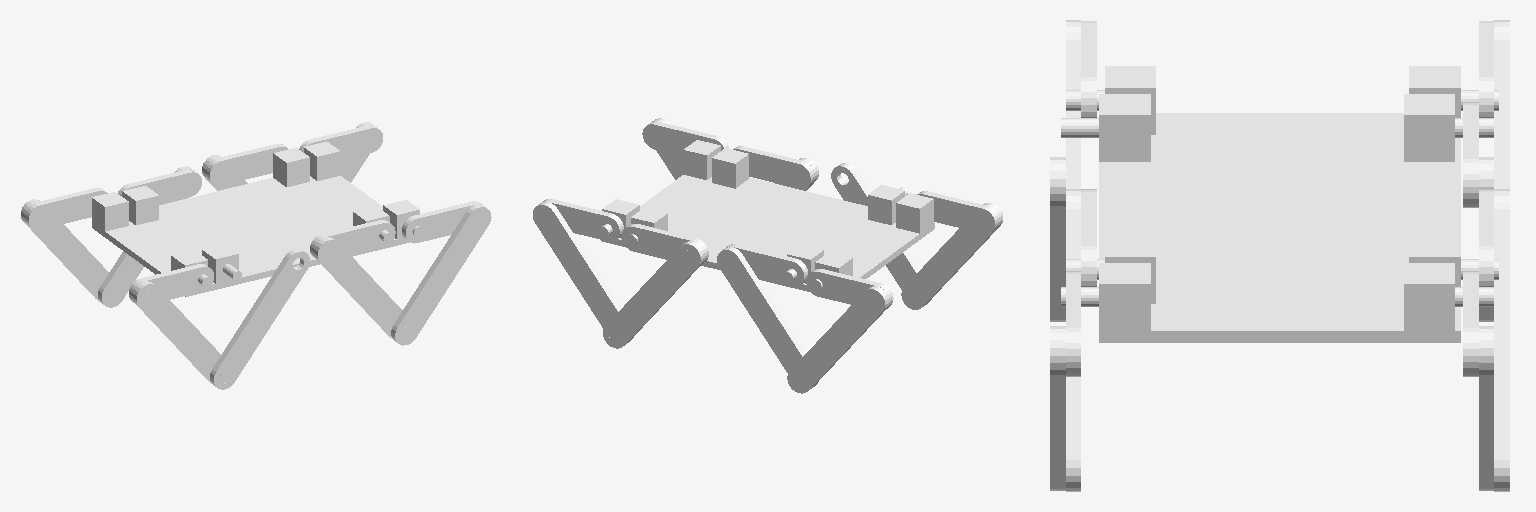
URDF robot description (minitaur):
<robot
  name="minitaur" xmlns:xacro="http://www.ros.org/wiki/xacro">
  <gazebo>
    <plugin name="gazebo_ros_control" filename="libgazebo_ros_control.so">
      <robotNamespace>/minitaur</robotNamespace>
      <robotSimType>gazebo_ros_control/DefaultRobotHWSim</robotSimType>
    </plugin>
  </gazebo>
  <link
    name="base_link">
    <inertial>
      <origin
        xyz="0.083033 -0.15433 0.00624"
        rpy="0 0 0" />
      <mass
        value="0.71915" />
      <inertia
        ixx="0.0023612"
        ixy="0"
        ixz="6.8894E-06"
        iyy="0.0062972"
        iyz="0"
        izz="0.0040109" />
    </inertial>
    <visual>
      <origin
        xyz="0 0 0"
        rpy="0 0 0" />
      <geometry>
        <mesh
          filename="package://minitaur/meshes/base_link.STL" />
      </geometry>
      <material
        name="">
        <color
          rgba="1 1 1 0.3" />
      </material>
    </visual>
    <collision>
      <origin
        xyz="0 0 0"
        rpy="0 0 0" />
      <geometry>
        <mesh
          filename="package://minitaur/meshes/base_link.STL" />
      </geometry>
    </collision>
  </link>
  <link
    name="leg1a1">
    <inertial>
      <origin
        xyz="0.027399 0 -0.008649"
        rpy="0 0 0" />
      <mass
        value="0.0096655" />
      <inertia
        ixx="3.47E-07"
        ixy="0"
        ixz="7.67E-08"
        iyy="3.57E-06"
        iyz="0"
        izz="3.82E-06" />
    </inertial>
    <visual>
      <origin
        xyz="0 0 0"
        rpy="0 0 0" />
      <geometry>
        <mesh
          filename="package://minitaur/meshes/leg1a1.STL" />
      </geometry>
      <material
        name="">
        <color
          rgba="1 1 1 0.3" />
      </material>
    </visual>
    <collision>
      <origin
        xyz="0 0 0"
        rpy="0 0 0" />
      <geometry>
        <mesh
          filename="package://minitaur/meshes/leg1a1.STL" />
      </geometry>
    </collision>
  </link>
  <joint
    name="leg1j1"
    type="continuous">
    <origin
      xyz="0.17303 -0.071332 0.10916"
      rpy="-1.5708 0 0" />
    <parent
      link="base_link" />
    <child
      link="leg1a1" />
    <axis
      xyz="0 0 -1" />
  </joint>
  <link
    name="leg1a2">
    <inertial>
      <origin
        xyz="-0.053394 -1.3878E-17 -0.0027964"
        rpy="0 0 0" />
      <mass
        value="0.016662" />
      <inertia
        ixx="6.06E-07"
        ixy="0"
        ixz="-1.58E-07"
        iyy="1.85E-05"
        iyz="0"
        izz="1.9E-05" />
    </inertial>
    <visual>
      <origin
        xyz="0 0 0"
        rpy="0 0 0" />
      <geometry>
        <mesh
          filename="package://minitaur/meshes/leg1a2.STL" />
      </geometry>
      <material
        name="">
        <color
          rgba="1 1 1 0.3" />
      </material>
    </visual>
    <collision>
      <origin
        xyz="0 0 0"
        rpy="0 0 0" />
      <geometry>
        <mesh
          filename="package://minitaur/meshes/leg1a2.STL" />
      </geometry>
    </collision>
  </link>
  <joint
    name="leg1j2"
    type="continuous">
    <origin
      xyz="0.05 0 0"
      rpy="5.5511E-15 5.9165E-30 -0.89566" />
    <parent
      link="leg1a1" />
    <child
      link="leg1a2" />
    <axis
      xyz="0 0 -1" />
  </joint>
  <link
    name="leg1a3">
    <inertial>
      <origin
        xyz="0.027399 -2.7756E-17 -0.008649"
        rpy="0 0 0" />
      <mass
        value="0.0096655" />
      <inertia
        ixx="3.47E-07"
        ixy="0"
        ixz="7.67E-08"
        iyy="3.57E-06"
        iyz="0"
        izz="3.82E-06" />
    </inertial>
    <visual>
      <origin
        xyz="0 0 0"
        rpy="0 0 0" />
      <geometry>
        <mesh
          filename="package://minitaur/meshes/leg1a3.STL" />
      </geometry>
      <material
        name="">
        <color
          rgba="1 1 1 0.3" />
      </material>
    </visual>
    <collision>
      <origin
        xyz="0 0 0"
        rpy="0 0 0" />
      <geometry>
        <mesh
          filename="package://minitaur/meshes/leg1a3.STL" />
      </geometry>
    </collision>
  </link>
  <joint
    name="leg1j3"
    type="continuous">
    <origin
      xyz="0.14803 -0.065332 0.10916"
      rpy="1.5708 0 3.1416" />
    <parent
      link="base_link" />
    <child
      link="leg1a3" />
    <axis
      xyz="0 0 -1" />
  </joint>
  <link
    name="leg1a4">
    <inertial>
      <origin
        xyz="0.05 2.7756E-17 0.003"
        rpy="0 0 0" />
      <mass
        value="0.015531" />
      <inertia
        ixx="5.76E-07"
        ixy="0"
        ixz="0"
        iyy="1.59E-05"
        iyz="0"
        izz="1.64E-05" />
    </inertial>
    <visual>
      <origin
        xyz="0 0 0"
        rpy="0 0 0" />
      <geometry>
        <mesh
          filename="package://minitaur/meshes/leg1a4.STL" />
      </geometry>
      <material
        name="">
        <color
          rgba="1 1 1 0.3" />
      </material>
    </visual>
    <collision>
      <origin
        xyz="0 0 0"
        rpy="0 0 0" />
      <geometry>
        <mesh
          filename="package://minitaur/meshes/leg1a4.STL" />
      </geometry>
    </collision>
  </link>
  <joint
    name="leg1j4"
    type="continuous">
    <origin
      xyz="0.05 0 0"
      rpy="3.1416 0 -2.2459" />
    <parent
      link="leg1a3" />
    <child
      link="leg1a4" />
    <axis
      xyz="0 0 1" />
  </joint>
  <link
    name="leg2a1">
    <inertial>
      <origin
        xyz="0.027399 -1.3878E-17 -0.008649"
        rpy="0 0 0" />
      <mass
        value="0.0096655" />
      <inertia
        ixx="3.47E-07"
        ixy="0"
        ixz="7.67E-08"
        iyy="3.57E-06"
        iyz="0"
        izz="3.82E-06" />
    </inertial>
    <visual>
      <origin
        xyz="0 0 0"
        rpy="0 0 0" />
      <geometry>
        <mesh
          filename="package://minitaur/meshes/leg2a1.STL" />
      </geometry>
      <material
        name="">
        <color
          rgba="1 1 1 0.3" />
      </material>
    </visual>
    <collision>
      <origin
        xyz="0 0 0"
        rpy="0 0 0" />
      <geometry>
        <mesh
          filename="package://minitaur/meshes/leg2a1.STL" />
      </geometry>
    </collision>
  </link>
  <joint
    name="leg2j1"
    type="continuous">
    <origin
      xyz="0.018033 -0.071332 0.10916"
      rpy="-1.5708 0 0" />
    <parent
      link="base_link" />
    <child
      link="leg2a1" />
    <axis
      xyz="0 0 -1" />
  </joint>
  <link
    name="leg2a2">
    <inertial>
      <origin
        xyz="-0.053394 -4.6838E-17 -0.0027964"
        rpy="0 0 0" />
      <mass
        value="0.016662" />
      <inertia
        ixx="6.06E-07"
        ixy="0"
        ixz="-1.58E-07"
        iyy="1.85E-05"
        iyz="0"
        izz="1.9E-05" />
    </inertial>
    <visual>
      <origin
        xyz="0 0 0"
        rpy="0 0 0" />
      <geometry>
        <mesh
          filename="package://minitaur/meshes/leg2a2.STL" />
      </geometry>
      <material
        name="">
        <color
          rgba="1 1 1 0.3" />
      </material>
    </visual>
    <collision>
      <origin
        xyz="0 0 0"
        rpy="0 0 0" />
      <geometry>
        <mesh
          filename="package://minitaur/meshes/leg2a2.STL" />
      </geometry>
    </collision>
  </link>
  <joint
    name="leg2j2"
    type="continuous">
    <origin
      xyz="0.05 0 0"
      rpy="5.5511E-15 0 -0.89566" />
    <parent
      link="leg2a1" />
    <child
      link="leg2a2" />
    <axis
      xyz="0 0 -1" />
  </joint>
  <link
    name="leg2a3">
    <inertial>
      <origin
        xyz="0.027399 2.7756E-17 -0.008649"
        rpy="0 0 0" />
      <mass
        value="0.0096655" />
      <inertia
        ixx="3.47E-07"
        ixy="0"
        ixz="7.67E-08"
        iyy="3.57E-06"
        iyz="0"
        izz="3.82E-06" />
    </inertial>
    <visual>
      <origin
        xyz="0 0 0"
        rpy="0 0 0" />
      <geometry>
        <mesh
          filename="package://minitaur/meshes/leg2a3.STL" />
      </geometry>
      <material
        name="">
        <color
          rgba="1 1 1 0.3" />
      </material>
    </visual>
    <collision>
      <origin
        xyz="0 0 0"
        rpy="0 0 0" />
      <geometry>
        <mesh
          filename="package://minitaur/meshes/leg2a3.STL" />
      </geometry>
    </collision>
  </link>
  <joint
    name="leg2j3"
    type="continuous">
    <origin
      xyz="-0.0069671 -0.065332 0.10916"
      rpy="1.5708 6.0715E-16 -3.1416" />
    <parent
      link="base_link" />
    <child
      link="leg2a3" />
    <axis
      xyz="0 0 -1" />
  </joint>
  <link
    name="leg2a4">
    <inertial>
      <origin
        xyz="-0.05 -6.9389E-18 0.003"
        rpy="0 0 0" />
      <mass
        value="0.015531" />
      <inertia
        ixx="5.76E-07"
        ixy="0"
        ixz="0"
        iyy="1.59E-05"
        iyz="0"
        izz="1.64E-05" />
    </inertial>
    <visual>
      <origin
        xyz="0 0 0"
        rpy="0 0 0" />
      <geometry>
        <mesh
          filename="package://minitaur/meshes/leg2a4.STL" />
      </geometry>
      <material
        name="">
        <color
          rgba="1 1 1 0.3" />
      </material>
    </visual>
    <collision>
      <origin
        xyz="0 0 0"
        rpy="0 0 0" />
      <geometry>
        <mesh
          filename="package://minitaur/meshes/leg2a4.STL" />
      </geometry>
    </collision>
  </link>
  <joint
    name="leg2j4"
    type="continuous">
    <origin
      xyz="0.05 0 0"
      rpy="3.1416 0 0.89566" />
    <parent
      link="leg2a3" />
    <child
      link="leg2a4" />
    <axis
      xyz="0 0 1" />
  </joint>
  <link
    name="leg3a1">
    <inertial>
      <origin
        xyz="0.027399 0 0.003351"
        rpy="0 0 0" />
      <mass
        value="0.0096655" />
      <inertia
        ixx="3.47E-07"
        ixy="0"
        ixz="7.67E-08"
        iyy="3.57E-06"
        iyz="0"
        izz="3.82E-06" />
    </inertial>
    <visual>
      <origin
        xyz="0 0 0"
        rpy="0 0 0" />
      <geometry>
        <mesh
          filename="package://minitaur/meshes/leg3a1.STL" />
      </geometry>
      <material
        name="">
        <color
          rgba="1 1 1 0.3" />
      </material>
    </visual>
    <collision>
      <origin
        xyz="0 0 0"
        rpy="0 0 0" />
      <geometry>
        <mesh
          filename="package://minitaur/meshes/leg3a1.STL" />
      </geometry>
    </collision>
  </link>
  <joint
    name="leg3j1"
    type="continuous">
    <origin
      xyz="0.14803 -0.22533 0.10916"
      rpy="-1.5708 0 3.1416" />
    <parent
      link="base_link" />
    <child
      link="leg3a1" />
    <axis
      xyz="0 0 1" />
  </joint>
  <link
    name="leg3a2">
    <inertial>
      <origin
        xyz="-0.053394 2.7756E-17 0.0032036"
        rpy="0 0 0" />
      <mass
        value="0.016662" />
      <inertia
        ixx="6.06E-07"
        ixy="0"
        ixz="-1.58E-07"
        iyy="1.85E-05"
        iyz="0"
        izz="1.9E-05" />
    </inertial>
    <visual>
      <origin
        xyz="0 0 0"
        rpy="0 0 0" />
      <geometry>
        <mesh
          filename="package://minitaur/meshes/leg3a2.STL" />
      </geometry>
      <material
        name="">
        <color
          rgba="1 1 1 0.3" />
      </material>
    </visual>
    <collision>
      <origin
        xyz="0 0 0"
        rpy="0 0 0" />
      <geometry>
        <mesh
          filename="package://minitaur/meshes/leg3a2.STL" />
      </geometry>
    </collision>
  </link>
  <joint
    name="leg3j2"
    type="continuous">
    <origin
      xyz="0.05 0 0.006"
      rpy="0 0 -0.89566" />
    <parent
      link="leg3a1" />
    <child
      link="leg3a2" />
    <axis
      xyz="0 0 1" />
  </joint>
  <link
    name="leg3a3">
    <inertial>
      <origin
        xyz="0.027399 2.7756E-17 0.003351"
        rpy="0 0 0" />
      <mass
        value="0.0096655" />
      <inertia
        ixx="3.47E-07"
        ixy="0"
        ixz="7.67E-08"
        iyy="3.57E-06"
        iyz="0"
        izz="3.82E-06" />
    </inertial>
    <visual>
      <origin
        xyz="0 0 0"
        rpy="0 0 0" />
      <geometry>
        <mesh
          filename="package://minitaur/meshes/leg3a3.STL" />
      </geometry>
      <material
        name="">
        <color
          rgba="1 1 1 0.3" />
      </material>
    </visual>
    <collision>
      <origin
        xyz="0 0 0"
        rpy="0 0 0" />
      <geometry>
        <mesh
          filename="package://minitaur/meshes/leg3a3.STL" />
      </geometry>
    </collision>
  </link>
  <joint
    name="leg3j3"
    type="continuous">
    <origin
      xyz="0.17303 -0.23133 0.10916"
      rpy="1.5708 0 0" />
    <parent
      link="base_link" />
    <child
      link="leg3a3" />
    <axis
      xyz="0 0 1" />
  </joint>
  <link
    name="leg3a4">
    <inertial>
      <origin
        xyz="0.05 2.7756E-17 0.003"
        rpy="0 0 0" />
      <mass
        value="0.015531" />
      <inertia
        ixx="5.76E-07"
        ixy="0"
        ixz="0"
        iyy="1.59E-05"
        iyz="0"
        izz="1.64E-05" />
    </inertial>
    <visual>
      <origin
        xyz="0 0 0"
        rpy="0 0 0" />
      <geometry>
        <mesh
          filename="package://minitaur/meshes/leg3a4.STL" />
      </geometry>
      <material
        name="">
        <color
          rgba="1 1 1 0.3" />
      </material>
    </visual>
    <collision>
      <origin
        xyz="0 0 0"
        rpy="0 0 0" />
      <geometry>
        <mesh
          filename="package://minitaur/meshes/leg3a4.STL" />
      </geometry>
    </collision>
  </link>
  <joint
    name="leg3j4"
    type="continuous">
    <origin
      xyz="0.05 0 0.006"
      rpy="0 0 -2.2459" />
    <parent
      link="leg3a3" />
    <child
      link="leg3a4" />
    <axis
      xyz="0 0 1" />
  </joint>
  <link
    name="leg4a1">
    <inertial>
      <origin
        xyz="0.027399 0 0.003351"
        rpy="0 0 0" />
      <mass
        value="0.0096655" />
      <inertia
        ixx="3.47E-07"
        ixy="0"
        ixz="7.67E-08"
        iyy="3.57E-06"
        iyz="0"
        izz="3.82E-06" />
    </inertial>
    <visual>
      <origin
        xyz="0 0 0"
        rpy="0 0 0" />
      <geometry>
        <mesh
          filename="package://minitaur/meshes/leg4a1.STL" />
      </geometry>
      <material
        name="">
        <color
          rgba="1 1 1 0.3" />
      </material>
    </visual>
    <collision>
      <origin
        xyz="0 0 0"
        rpy="0 0 0" />
      <geometry>
        <mesh
          filename="package://minitaur/meshes/leg4a1.STL" />
      </geometry>
    </collision>
  </link>
  <joint
    name="leg4j1"
    type="continuous">
    <origin
      xyz="-0.0069671 -0.22533 0.10916"
      rpy="-1.5708 -8.6736E-17 3.1416" />
    <parent
      link="base_link" />
    <child
      link="leg4a1" />
    <axis
      xyz="0 0 1" />
  </joint>
  <link
    name="leg4a2">
    <inertial>
      <origin
        xyz="-0.053394 -3.1225E-17 0.0032036"
        rpy="0 0 0" />
      <mass
        value="0.016662" />
      <inertia
        ixx="6.06E-07"
        ixy="0"
        ixz="-1.58E-07"
        iyy="1.85E-05"
        iyz="0"
        izz="1.9E-05" />
    </inertial>
    <visual>
      <origin
        xyz="0 0 0"
        rpy="0 0 0" />
      <geometry>
        <mesh
          filename="package://minitaur/meshes/leg4a2.STL" />
      </geometry>
      <material
        name="">
        <color
          rgba="1 1 1 0.3" />
      </material>
    </visual>
    <collision>
      <origin
        xyz="0 0 0"
        rpy="0 0 0" />
      <geometry>
        <mesh
          filename="package://minitaur/meshes/leg4a2.STL" />
      </geometry>
    </collision>
  </link>
  <joint
    name="leg4j2"
    type="continuous">
    <origin
      xyz="0.05 0 0.006"
      rpy="0 0 -0.89566" />
    <parent
      link="leg4a1" />
    <child
      link="leg4a2" />
    <axis
      xyz="0 0 1" />
  </joint>
  <link
    name="leg4a3">
    <inertial>
      <origin
        xyz="0.027399 1.3878E-17 0.003351"
        rpy="0 0 0" />
      <mass
        value="0.0096655" />
      <inertia
        ixx="3.47E-07"
        ixy="0"
        ixz="7.67E-08"
        iyy="3.57E-06"
        iyz="0"
        izz="3.82E-06" />
    </inertial>
    <visual>
      <origin
        xyz="0 0 0"
        rpy="0 0 0" />
      <geometry>
        <mesh
          filename="package://minitaur/meshes/leg4a3.STL" />
      </geometry>
      <material
        name="">
        <color
          rgba="1 1 1 0.3" />
      </material>
    </visual>
    <collision>
      <origin
        xyz="0 0 0"
        rpy="0 0 0" />
      <geometry>
        <mesh
          filename="package://minitaur/meshes/leg4a3.STL" />
      </geometry>
    </collision>
  </link>
  <joint
    name="leg4j3"
    type="continuous">
    <origin
      xyz="0.018033 -0.23133 0.10916"
      rpy="1.5708 0 0" />
    <parent
      link="base_link" />
    <child
      link="leg4a3" />
    <axis
      xyz="0 0 1" />
  </joint>
  <link
    name="leg4a4">
    <inertial>
      <origin
        xyz="0.05 5.2042E-17 0.003"
        rpy="0 0 0" />
      <mass
        value="0.015531" />
      <inertia
        ixx="5.76E-07"
        ixy="0"
        ixz="0"
        iyy="1.59E-05"
        iyz="0"
        izz="1.64E-05" />
    </inertial>
    <visual>
      <origin
        xyz="0 0 0"
        rpy="0 0 0" />
      <geometry>
        <mesh
          filename="package://minitaur/meshes/leg4a4.STL" />
      </geometry>
      <material
        name="">
        <color
          rgba="1 1 1 0.3" />
      </material>
    </visual>
    <collision>
      <origin
        xyz="0 0 0"
        rpy="0 0 0" />
      <geometry>
        <mesh
          filename="package://minitaur/meshes/leg4a4.STL" />
      </geometry>
    </collision>
  </link>
  <joint
    name="leg4j4"
    type="continuous">
    <origin
      xyz="0.05 0 0.006"
      rpy="0 0 -2.2459" />
    <parent
      link="leg4a3" />
    <child
      link="leg4a4" />
    <axis
      xyz="0 0 1" />
  </joint>
  <gazebo>
    <plugin name="object_controller" filename="libgazebo_ros_planar_move.so">
      <commandTopic>/minitaur/cmd_vel</commandTopic>
      <odometryTopic>odom</odometryTopic>
      <odometryFrame>odom</odometryFrame>
      <odometryRate>20.0</odometryRate>
      <robotBaseFrame>base_link</robotBaseFrame>
    </plugin>
  </gazebo>
 <transmission name="tran1">
    <type>transmission_interface/SimpleTransmission</type>
    <joint name="leg1j1">
      <hardwareInterface>EffortJointInterface</hardwareInterface>
    </joint>
    <actuator name="leg1m1">
      <hardwareInterface>EffortJointInterface</hardwareInterface>
      <mechanicalReduction>1</mechanicalReduction>
    </actuator>
  </transmission>
</robot>

--- Facts derived from the render (not from the file) ---
3 views of the same robot in one strip: view 1: azimuth 30°, elevation 25°; view 2: azimuth 150°, elevation 25°; view 3: azimuth 270°, elevation 25° (orthographic).
Model minitaur with 17 links and 16 joints (16 continuous), rooted at base_link, posed every joint at zero.
Links seen in each view (by area): view 1: base_link, leg4a4, leg3a4, leg3a2, leg4a2, leg2a4, leg2a3, leg1a3, leg3a3, leg4a1, leg3a1, leg1a1 (+2 smaller); view 2: base_link, leg2a2, leg1a2, leg1a4, leg2a4, leg4a2, leg3a1, leg4a1, leg4a4, leg1a3, leg2a3, leg1a1 (+2 smaller); view 3: base_link, leg1a4, leg3a2, leg3a4, leg2a4, leg4a4, leg1a2, leg4a2, leg1a1, leg2a1, leg3a3, leg3a1 (+4 smaller).
Link boxes in pixels (box(x1,y1,x2,y2)): base_link: box(92, 141, 422, 296); leg4a4: box(210, 249, 309, 389); leg3a4: box(391, 204, 491, 345); leg3a2: box(314, 237, 412, 338); leg4a2: box(133, 281, 230, 383); leg2a4: box(21, 199, 108, 301); leg2a3: box(25, 188, 107, 229); leg1a3: box(206, 144, 287, 185); leg3a3: box(402, 201, 485, 243); leg4a1: box(129, 264, 213, 302); leg3a1: box(310, 220, 395, 259); leg1a1: box(299, 125, 382, 159); base_link: box(599, 140, 934, 291); leg2a2: box(717, 247, 817, 386); leg1a2: box(533, 202, 633, 342); leg1a4: box(603, 241, 704, 348); leg2a4: box(787, 286, 888, 393); leg4a2: box(901, 203, 1002, 309); leg3a1: box(733, 146, 814, 188); leg4a1: box(917, 191, 998, 233); leg4a4: box(831, 163, 931, 304); leg1a3: box(622, 224, 708, 262); leg2a3: box(806, 269, 893, 308); leg1a1: box(539, 199, 623, 241); base_link: box(1061, 66, 1498, 342); leg1a4: box(1494, 189, 1509, 491); leg3a2: box(1066, 189, 1080, 491); leg3a4: box(1050, 326, 1065, 490); leg2a4: box(1494, 20, 1509, 188); leg4a4: box(1050, 157, 1065, 321); leg1a2: box(1479, 326, 1493, 490); leg4a2: box(1066, 20, 1080, 188); leg1a1: box(1463, 271, 1478, 376); leg2a1: box(1463, 102, 1478, 207); leg3a3: box(1066, 271, 1080, 376); leg3a1: box(1081, 189, 1096, 286).
Size in the robot's own frame: 0.3 by 0.178 by 0.0981 metres.
Meshes: 17 distinct files referenced, 16 mesh visuals loaded (16 binary STL); not drawn: 1 (reference not matched to a file when rendering).